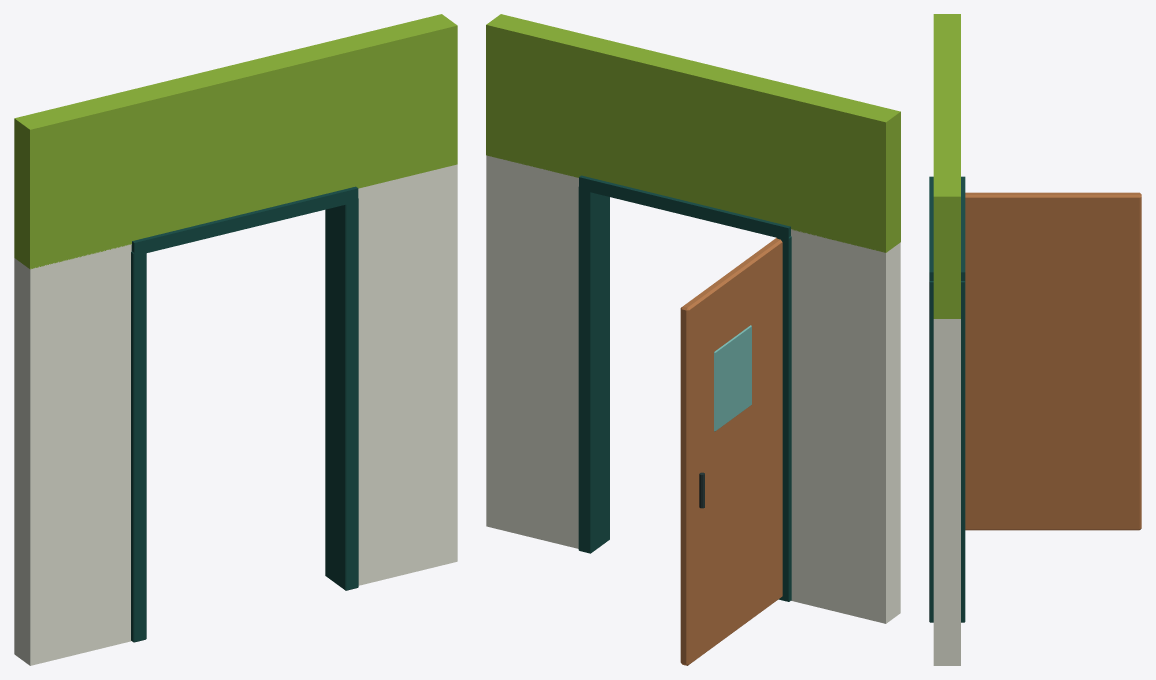
File: wall_door.glb
3 renders of one model, left to right at view 1: azimuth 30°, elevation 25°; view 2: azimuth 150°, elevation 25°; view 3: azimuth 270°, elevation 25°, orthographic. The views are drawn at different scales.
Visible parts, largest first — view 1: Bandeira verde, Ombreira de alvenaria, Ombreira de alvenaria.001, Batente.001, Batente, Travessa de batente; view 2: Bandeira verde, Ombreira de alvenaria, Ombreira de alvenaria.001, Folha, Batente.001, Batente, Travessa de batente, Janela da folha; view 3: Folha, Ombreira de alvenaria.001, Bandeira verde, Batente.001, Travessa de batente.
Boxes of the visible parts, <box> form: Bandeira verde: <box>14,14,457,269</box>; Ombreira de alvenaria: <box>14,244,131,665</box>; Ombreira de alvenaria.001: <box>358,164,457,585</box>; Batente.001: <box>325,198,358,590</box>; Batente: <box>131,251,146,642</box>; Travessa de batente: <box>131,186,358,255</box>; Bandeira verde: <box>486,14,900,252</box>; Ombreira de alvenaria: <box>791,229,900,623</box>; Ombreira de alvenaria.001: <box>486,155,578,548</box>; Folha: <box>680,237,782,665</box>; Batente.001: <box>578,187,609,553</box>; Batente: <box>777,236,791,601</box>; Travessa de batente: <box>579,175,790,239</box>; Janela da folha: <box>714,325,751,431</box>; Folha: <box>965,192,1141,530</box>; Ombreira de alvenaria.001: <box>933,319,960,665</box>; Bandeira verde: <box>933,14,960,318</box>; Batente.001: <box>929,281,965,622</box>; Travessa de batente: <box>929,176,965,281</box>.
Bounding box in the file's own units: 2.5 × 3 × 1.23.
